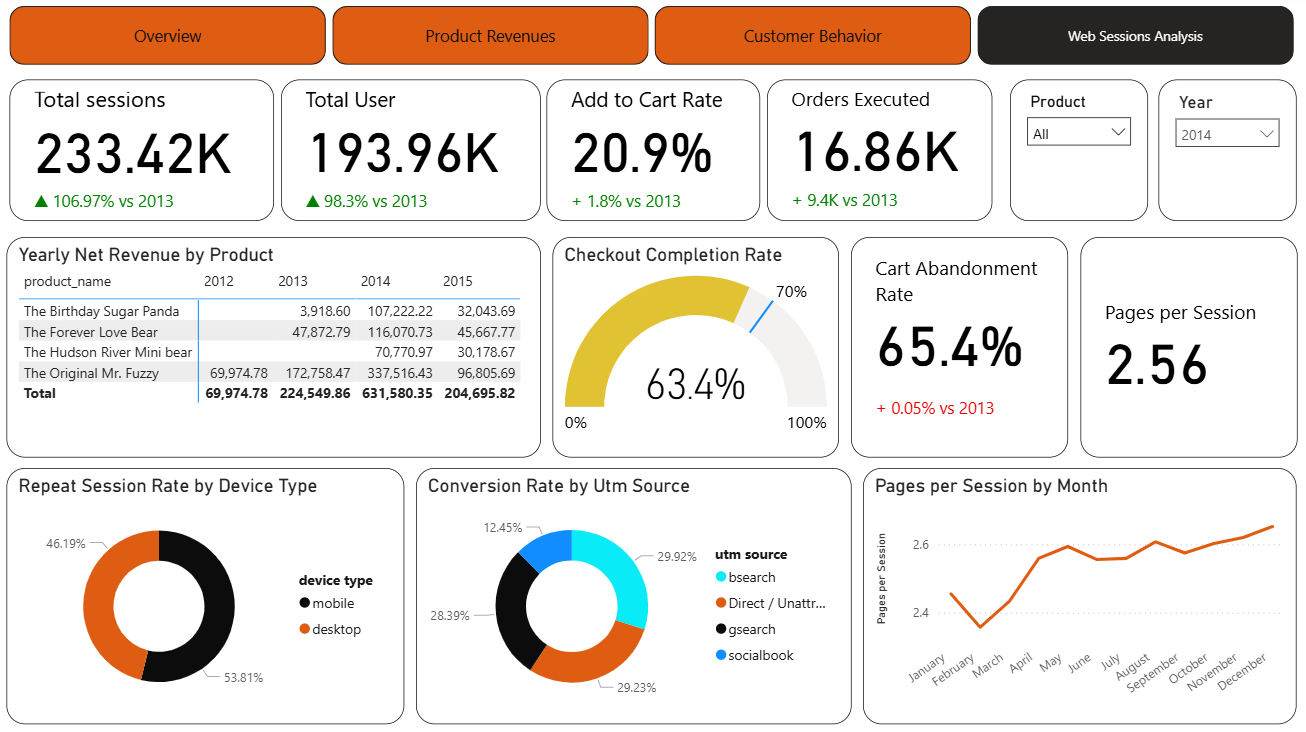

This screenshot's page, from the dashboard's own definition file:
{"tool":"powerbi","page":{"name":"Web Sessions Analysis","canvas":[1280,720],"ordinal":3},"visuals":[{"type":"slicer","fields":{"Values":["Date.Year"]},"box":[1131.4,82.8,134.2,137.5],"z":0},{"type":"cardVisual","fields":{"Data":["_Measures.Total session"]},"box":[16.6,82.8,256.8,137.5],"z":1000},{"type":"cardVisual","fields":{"Data":["_Measures.Total User"]},"box":[279.9,82.8,251.8,137.5],"z":2000},{"type":"pivotTable","title":"Yearly Net Revenue by Product","fields":{"Rows":["products.product_name"],"Columns":["Date.Year"],"Values":["_Measures.Net Revenue"]},"box":[13.3,235.2,518.5,213.7],"z":3000},{"type":"cardVisual","fields":{"Data":["_Measures.Add to Cart Rate"]},"box":[536.7,82.8,207.1,137.5],"z":4000},{"type":"gauge","fields":{"Y":["_Measures.Checkout Completion Rate"]},"box":[543.3,235.2,278.3,213.7],"z":5000},{"type":"cardVisual","fields":{"Data":["_Measures.Orders Executed"]},"box":[750.4,82.8,218.7,137.5],"z":6000},{"type":"cardVisual","fields":{"Data":["_Measures.Cart Abandonment Rate"]},"box":[833.2,235.2,210.4,213.7],"z":7000},{"type":"donutChart","title":"Repeat Session Rate by Device Type","fields":{"Y":["_Measures.Repeat Session Rate"],"Category":["website_sessions.device_type"]},"box":[13.3,460.5,386,248.5],"z":8000},{"type":"cardVisual","fields":{"Data":["_Measures.Pages per Session"]},"box":[1055.2,235.2,210.4,213.7],"z":9000},{"type":"donutChart","title":"Conversion Rate by Utm Source","fields":{"Category":["website_sessions.utm_source_clean"],"Y":["_Measures.Conversion Rate"]},"box":[410.8,460.5,422.4,248.5],"z":10000},{"type":"lineChart","fields":{"Category":["Date.Month"],"Y":["_Measures.Pages per Session"]},"box":[844.8,460.5,420.7,248.5],"z":11000},{"type":"pageNavigator","box":[16.6,11.6,1249,58],"z":12000},{"type":"slicer","fields":{"Values":["products.product_name"]},"box":[987.3,82.8,134.2,137.5],"z":13000}]}

Visuals, with their boxes in screenshot pixels (x1, y1, x2, y2), scaled from the page's 1280x720 canvas onto the 1306x732 screenshot:
slicer - Date.Year: l=1154, t=84, r=1291, b=224
cardVisual - _Measures.Total session: l=17, t=84, r=279, b=224
cardVisual - _Measures.Total User: l=286, t=84, r=543, b=224
"Yearly Net Revenue by Product" pivotTable: l=14, t=239, r=543, b=456
cardVisual - _Measures.Add to Cart Rate: l=548, t=84, r=759, b=224
gauge - _Measures.Checkout Completion Rate: l=554, t=239, r=838, b=456
cardVisual - _Measures.Orders Executed: l=766, t=84, r=989, b=224
cardVisual - _Measures.Cart Abandonment Rate: l=850, t=239, r=1065, b=456
"Repeat Session Rate by Device Type" donutChart: l=14, t=468, r=407, b=721
cardVisual - _Measures.Pages per Session: l=1077, t=239, r=1291, b=456
"Conversion Rate by Utm Source" donutChart: l=419, t=468, r=850, b=721
lineChart - Date.Month x _Measures.Pages per Session: l=862, t=468, r=1291, b=721
pageNavigator: l=17, t=12, r=1291, b=71
slicer - products.product_name: l=1007, t=84, r=1144, b=224
